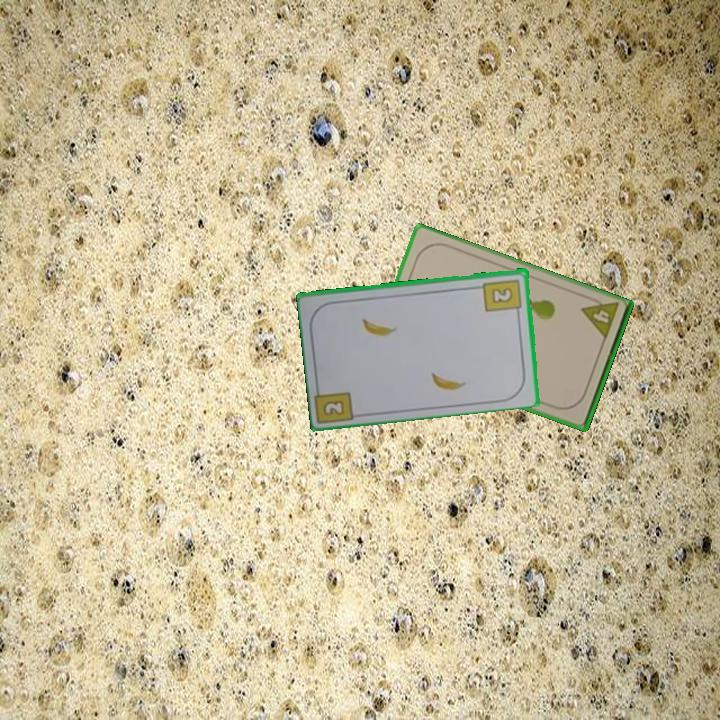2b: (480, 275, 525, 317), (319, 396, 347, 419)
4p: (578, 292, 622, 343)
